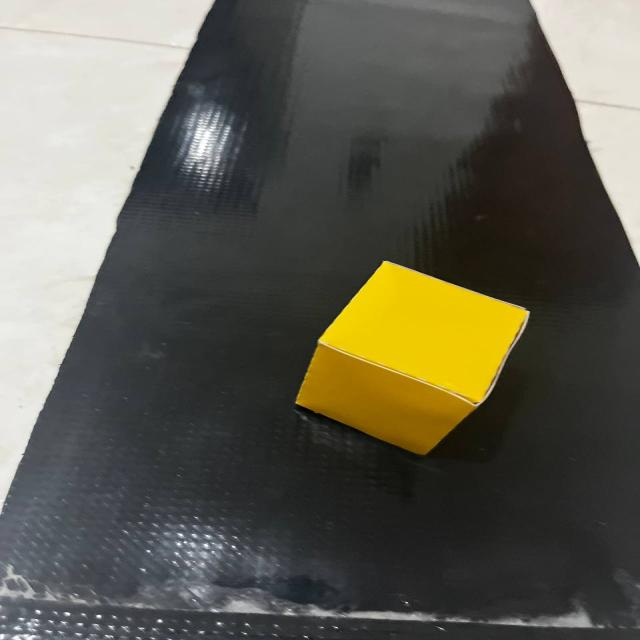Amarillo: (268, 244, 533, 476)
